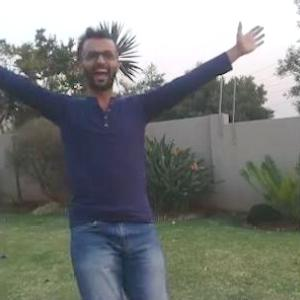takeoff: (1, 25, 266, 299)
